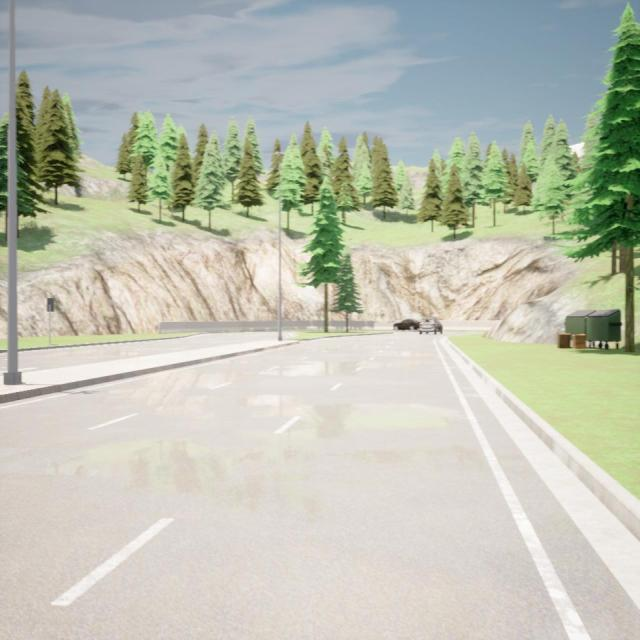Traffic_Signs: (47, 298, 54, 312)
Vehicle: (419, 316, 442, 334), (393, 319, 419, 332)
